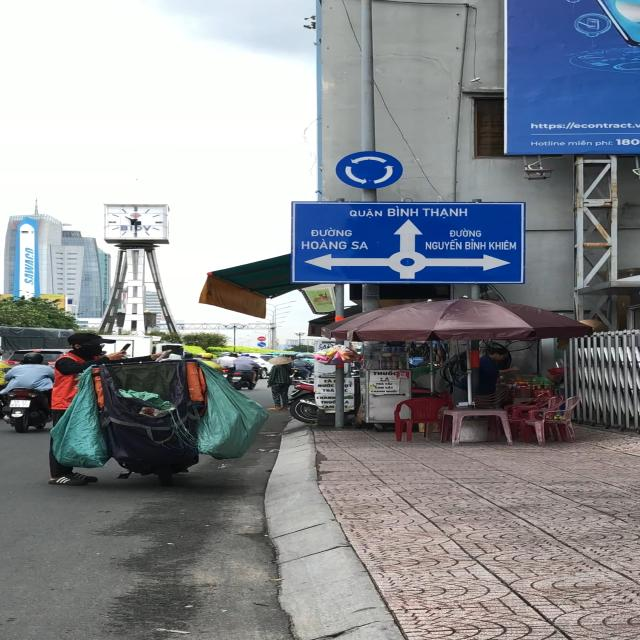Bien bao noi giao nhau chay theo vong xuyen: (331, 150, 412, 190)
